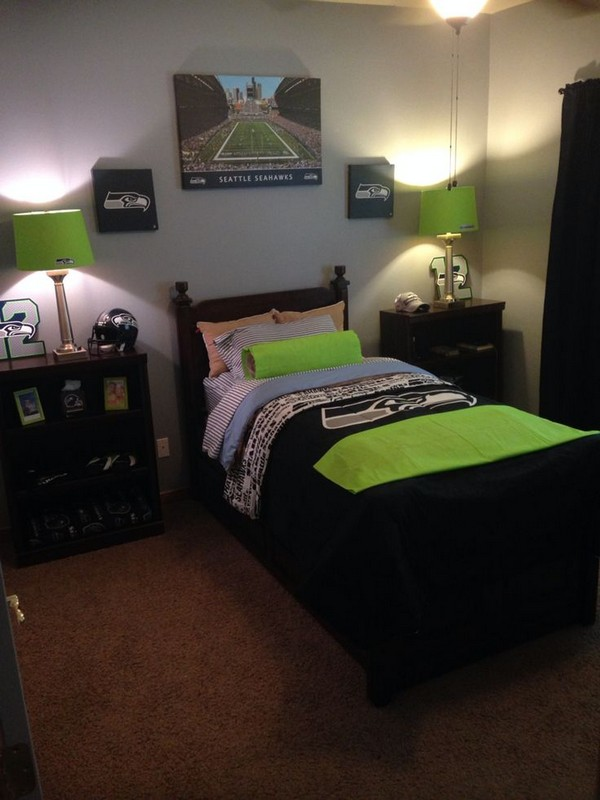bed: (175, 273, 600, 717)
lamp: (10, 206, 99, 358), (412, 183, 476, 312)
stool: (2, 350, 162, 552), (382, 297, 508, 412)
